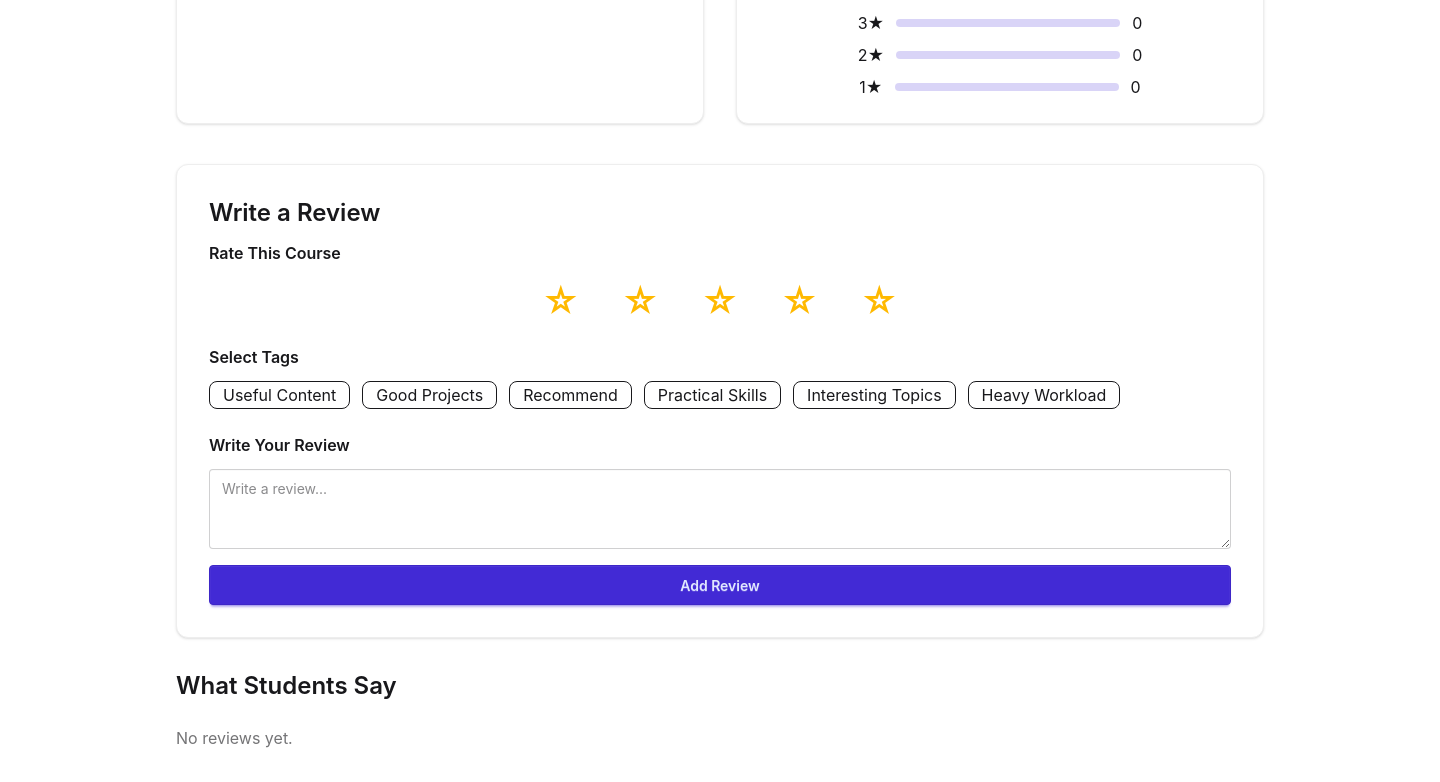
Test: average rating updates after new review is added
(page scrolled)
In the text box with placeholder "Write a review...": (720, 509) [209,469,1231,549], type "Great course"
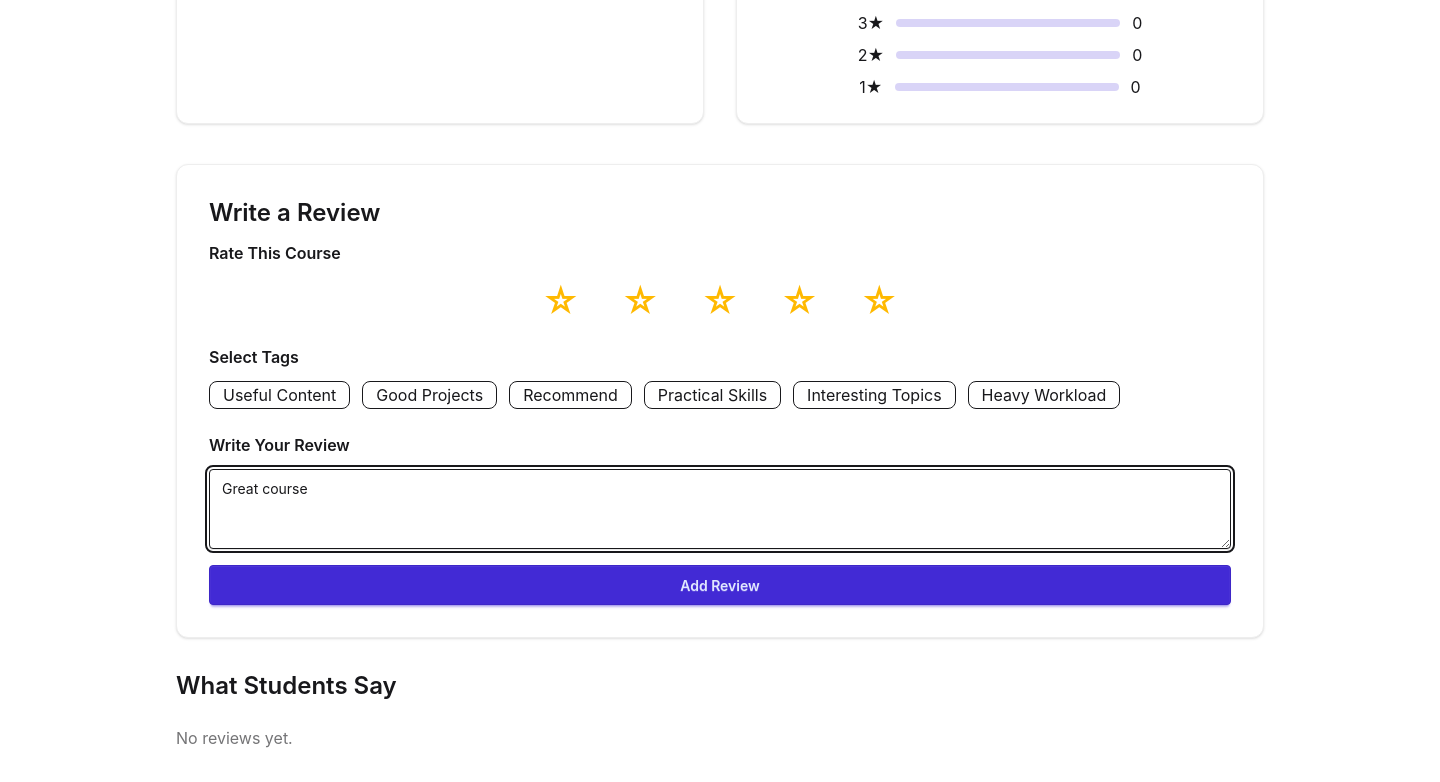
Click the button named "5 out of 5 stars": click(879, 301) [843,281,915,321]
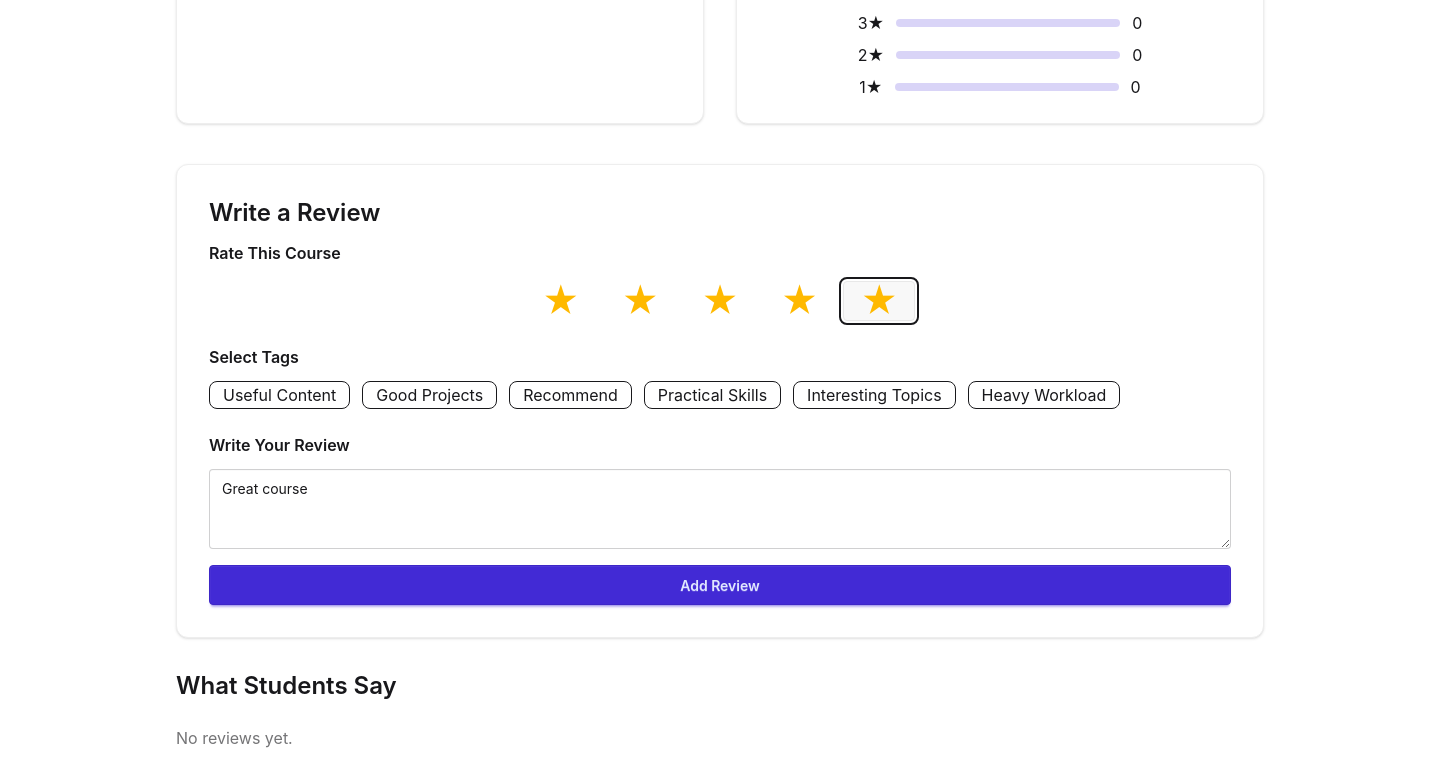
Click the button "Add Review": click(720, 585) [209,565,1231,605]
(page scrolled)
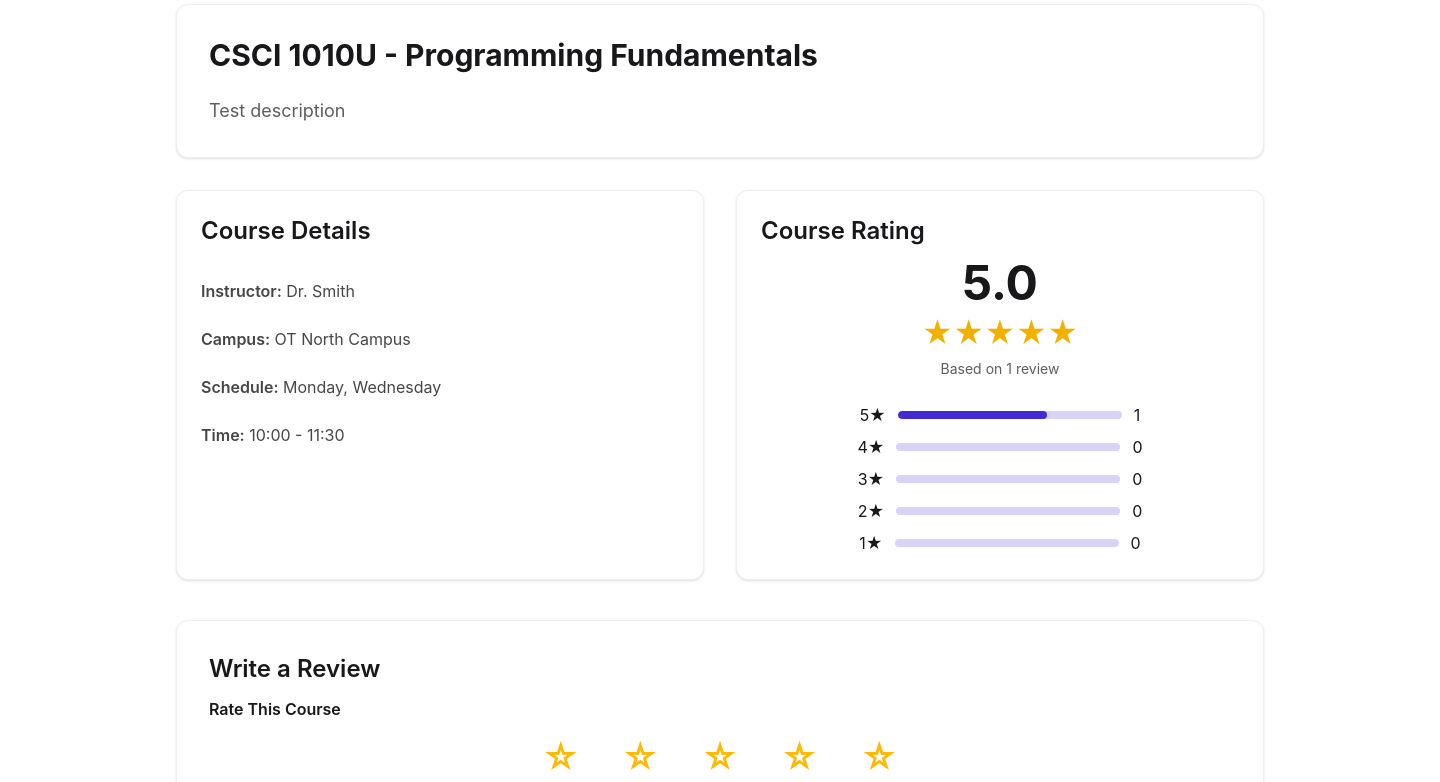
expect the text "5.0" is shown: met, box [962,253,1038,312]
